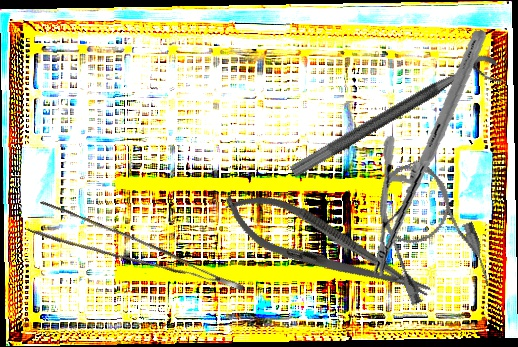Cannula: (364, 150, 496, 314)
Fixation Ring: (288, 49, 507, 196)
Needle Holder: (347, 29, 511, 278), (213, 177, 441, 319)
Tissue Forceps: (26, 189, 245, 327)
